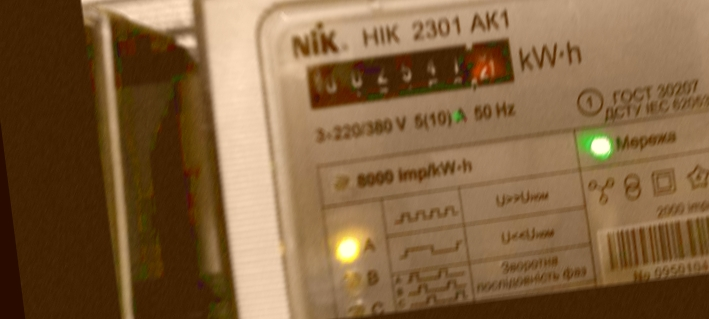0: (319, 67, 340, 95), (347, 61, 364, 89)
1: (446, 47, 462, 75)
2: (370, 58, 389, 84)
4: (422, 51, 438, 75)
5: (395, 53, 416, 83)
6: (475, 60, 492, 80)
screen: (291, 21, 531, 121)
